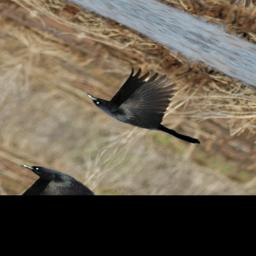Crow: (77, 54, 235, 155)
